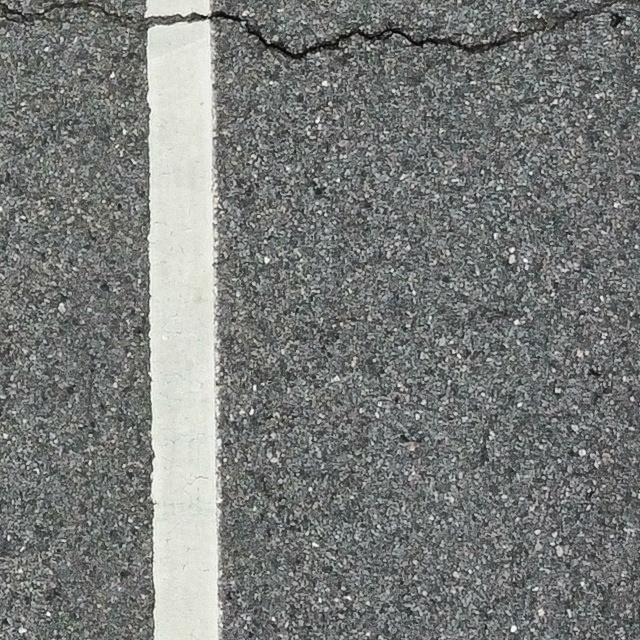TransverseCrack: (1, 1, 616, 62)
